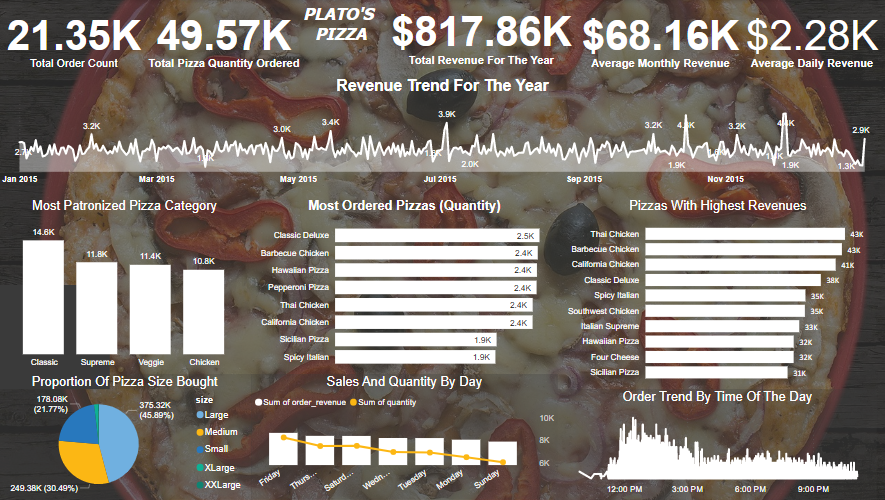

This screenshot's page, from the dashboard's own definition file:
{"tool":"powerbi","page":{"name":"Page 1","canvas":[1280,720],"ordinal":0},"visuals":[{"type":"card","fields":{"Values":["order_details.Total Order Quantity"]},"box":[0,0,218.4,109.2],"z":0},{"type":"card","fields":{"Values":["order_details.Total Quantity Ordered"]},"box":[207.4,0,236.2,109.4],"z":1000},{"type":"textbox","box":[0,410,161,150],"z":2000},{"type":"clusteredColumnChart","title":"Most Patronized Pizza Category","fields":{"Category":["pizza_types.category"],"Y":["CountNonNull(order_details.order_id)"]},"box":[0,285.1,364.3,253.4],"z":3000},{"type":"clusteredBarChart","title":"Most Ordered Pizzas (Quantity)","fields":{"Y":["Sum(order_details.quantity)"],"Category":["pizza_types.classic_name"]},"box":[364.5,285.6,441.8,253.6],"z":4000},{"type":"card","fields":{"Values":["order_details.Total Revenue"]},"box":[551.5,0,289.4,97.9],"z":5000},{"type":"clusteredBarChart","title":"Pizzas With Highest Revenues ","fields":{"Y":["Sum(order_details.cost)"],"Category":["pizza_types.classic_name"]},"box":[806.3,285.6,460.3,273.8],"z":6000},{"type":"areaChart","title":"Revenue Trend For The Year","fields":{"Category":["orders.date"],"Y":["Sum(order_details.order_revenue)"]},"box":[0,109.2,1280,164.6],"z":7000},{"type":"card","fields":{"Values":["order_details.Average Monthly Revenue"]},"box":[830.9,0,246.2,109.4],"z":8000},{"type":"card","fields":{"Values":["order_details.order_revenue average per date"]},"box":[1064.2,0,216,109.4],"z":9000},{"type":"pieChart","title":"Proportion Of Pizza Size Bought","fields":{"Category":["pizzas.size"],"Y":["Sum(order_details.order_revenue)"]},"box":[0,539.2,364.5,181.4],"z":10000},{"type":"textbox","box":[421.9,0,142.6,97.9],"z":11000},{"type":"lineClusteredColumnComboChart","title":"Sales And Quantity By Day","fields":{"Category":["orders.Day"],"Y":["Sum(order_details.order_revenue)"],"Y2":["Sum(order_details.quantity)"]},"box":[364.5,539.2,441.8,181.4],"z":11001},{"type":"lineChart","title":"Order Trend By Time Of The Day","fields":{"Category":["orders.time"],"Y":["Sum(order_details.quantity)"]},"box":[807,560,459,160],"z":11002}]}

Visuals, with their boxes in screenshot pixels (x1, y1, x2, y2), scaled from the page's 1280x720 canvas onto the 885x500 screenshot:
card - order_details.Total Order Quantity: 0, 0, 151, 76
card - order_details.Total Quantity Ordered: 143, 0, 307, 76
textbox: 0, 285, 111, 389
"Most Patronized Pizza Category" clusteredColumnChart: 0, 198, 252, 374
"Most Ordered Pizzas (Quantity)" clusteredBarChart: 252, 198, 557, 374
card - order_details.Total Revenue: 381, 0, 581, 68
"Pizzas With Highest Revenues " clusteredBarChart: 557, 198, 876, 388
"Revenue Trend For The Year" areaChart: 0, 76, 884, 190
card - order_details.Average Monthly Revenue: 574, 0, 745, 76
card - order_details.order_revenue average per date: 736, 0, 884, 76
"Proportion Of Pizza Size Bought" pieChart: 0, 374, 252, 499
textbox: 292, 0, 390, 68
"Sales And Quantity By Day" lineClusteredColumnComboChart: 252, 374, 557, 499
"Order Trend By Time Of The Day" lineChart: 558, 389, 875, 499
